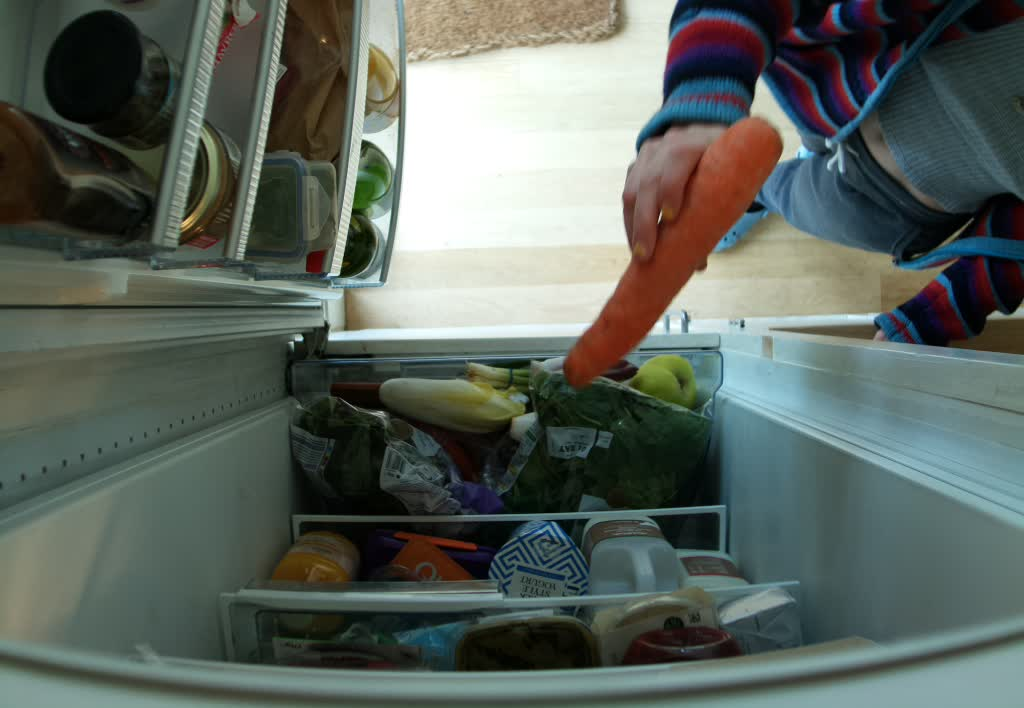carrot: (556, 105, 780, 389)
